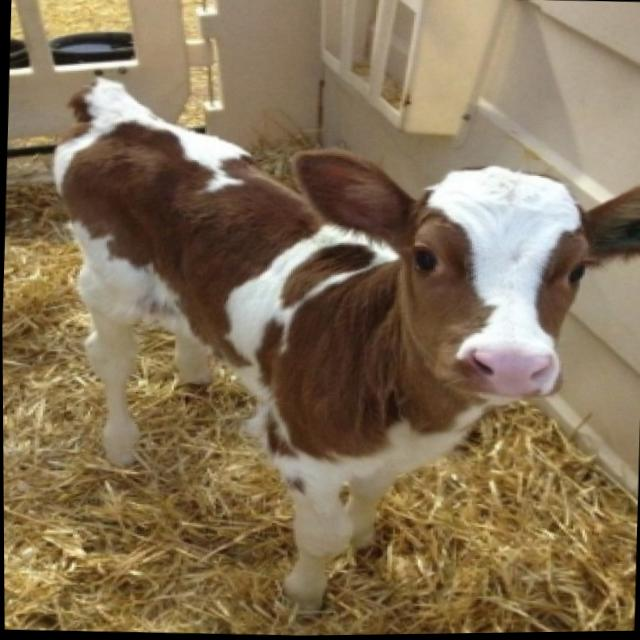cowFace: (273, 139, 640, 414)
